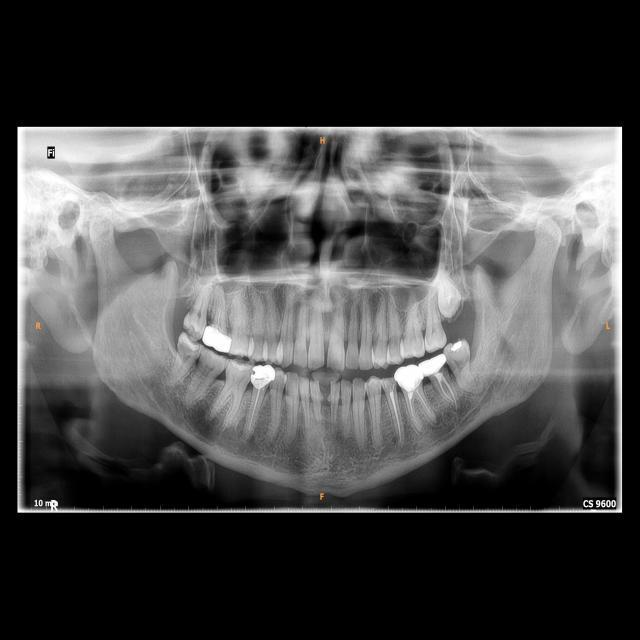dentin-curugu: (177, 339, 195, 358), (186, 303, 196, 317)
dolgu: (449, 341, 468, 353)
kanal-tedavisi: (431, 372, 462, 407), (402, 391, 434, 422), (243, 386, 262, 432), (388, 391, 404, 440)
kaplama: (202, 326, 234, 353), (395, 362, 424, 388), (418, 352, 450, 374), (252, 366, 275, 388)
